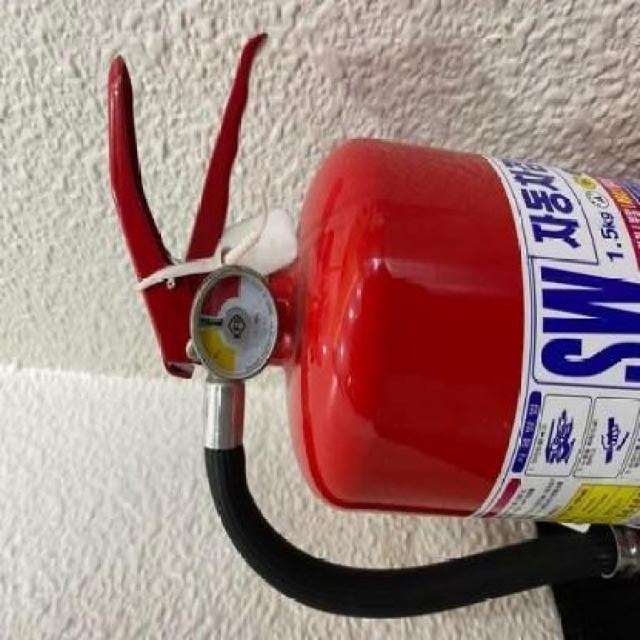fire extinguisher: (107, 30, 640, 621)
